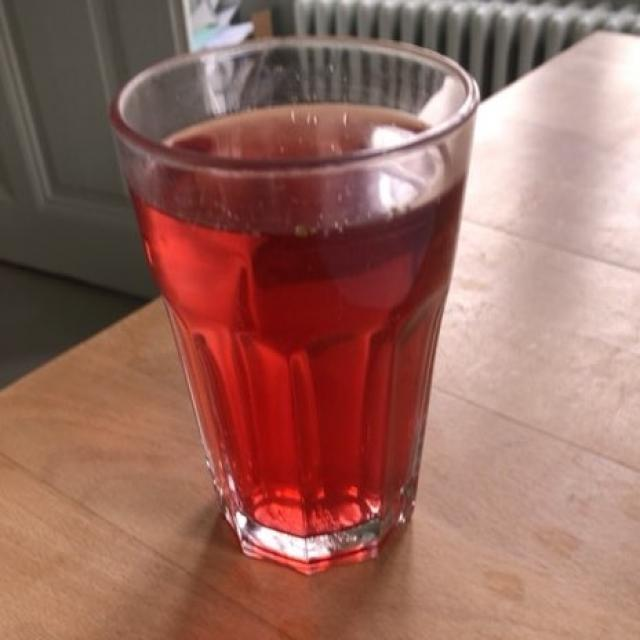tea: (136, 103, 467, 548)
